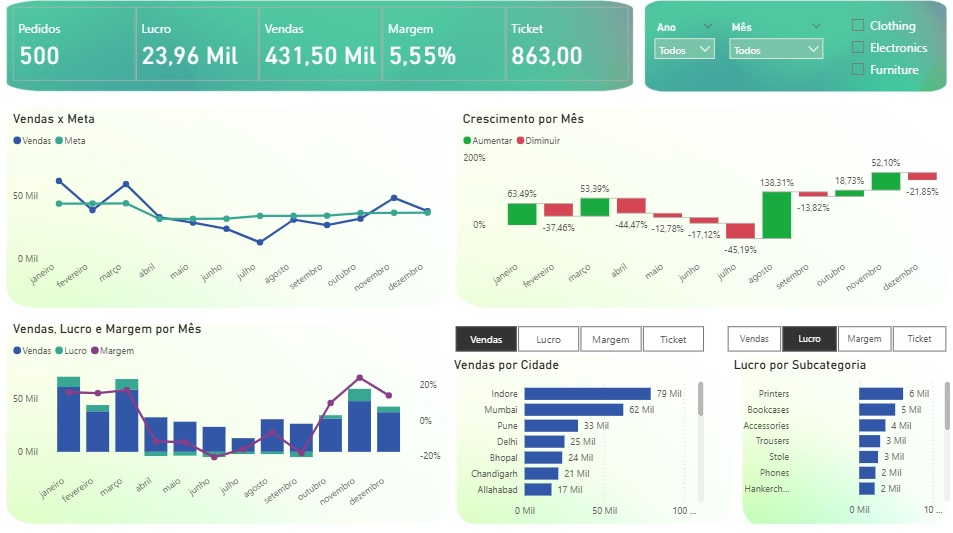

The page's visual inventory and layout, read from the dashboard file:
{"tool":"powerbi","page":{"name":"Página 1","canvas":[1280,720],"ordinal":0},"visuals":[{"type":"cardVisual","fields":{"Data":["medidas.Pedidos","medidas.Lucro","medidas.Vendas","medidas.Margem","medidas.Ticket Medio"]},"box":[24.8,15.1,823.1,107.4],"z":0},{"type":"slicer","fields":{"Values":["calendario.Ano"]},"box":[863,34.4,99.1,86.7],"z":1000},{"type":"slicer","fields":{"Values":["calendario.Nome Mes"]},"box":[962.1,34.4,143.1,158.3],"z":2000},{"type":"slicer","fields":{"Values":["metas.category"]},"box":[1119,24.8,129.4,106],"z":3000},{"type":"lineChart","title":"Vendas x Meta","fields":{"Category":["calendario.Data.Variation.Hierarquia de datas.Ano","calendario.Data.Variation.Hierarquia de datas.Mês"],"Y":["medidas.Vendas","Sum(metas.target)"]},"box":[24.8,158.3,572.6,260.1],"z":4000},{"type":"lineStackedColumnComboChart","fields":{"Category":["calendario.Data.Variation.Hierarquia de datas.Ano","calendario.Data.Variation.Hierarquia de datas.Mês"],"Y":["medidas.Vendas","medidas.Lucro"],"Y2":["medidas.Margem"]},"box":[24.8,433.5,572.6,265.6],"z":5000},{"type":"waterfallChart","fields":{"Category":["calendario.Ano Mes.Variation.Hierarquia de datas.Mês"],"Y":["medidas.Crescimento"]},"box":[616.6,158.3,652.4,260.1],"z":6000},{"type":"clusteredBarChart","fields":{"Y":["medidas.Vendas"],"Category":["clientes.city"]},"box":[604.2,480.3,338.6,220.2],"z":7000},{"type":"slicer","fields":{"Values":["Selecao Cidade.Selecao Cidade"]},"box":[586.3,433.5,375.7,46.8],"z":8000},{"type":"clusteredBarChart","fields":{"Y":["medidas.Vendas"],"Category":["vendas.subcategory"]},"box":[971.7,480.3,294.5,218.8],"z":9000},{"type":"slicer","fields":{"Values":["Selecao Subcategoria.Selecao Subcategoria"]},"box":[942.8,433.5,337.2,46.8],"z":10000}]}

Visuals, with their boxes in screenshot pixels (x1, y1, x2, y2), scaled from the page's 1280x720 canvas onto the 953x533 screenshot:
cardVisual - medidas.Pedidos x medidas.Lucro: [x1=18, y1=11, x2=631, y2=91]
slicer - calendario.Ano: [x1=643, y1=25, x2=716, y2=90]
slicer - calendario.Nome Mes: [x1=716, y1=25, x2=823, y2=143]
slicer - metas.category: [x1=833, y1=18, x2=929, y2=97]
"Vendas x Meta" lineChart: [x1=18, y1=117, x2=445, y2=310]
lineStackedColumnComboChart - calendario.Data.Variation.Hierarquia de datas.Ano x calendario.Data.Variation.Hierarquia de datas.Mês: [x1=18, y1=321, x2=445, y2=518]
waterfallChart - calendario.Ano Mes.Variation.Hierarquia de datas.Mês x medidas.Crescimento: [x1=459, y1=117, x2=945, y2=310]
clusteredBarChart - medidas.Vendas x clientes.city: [x1=450, y1=356, x2=702, y2=519]
slicer - Selecao Cidade.Selecao Cidade: [x1=437, y1=321, x2=716, y2=356]
clusteredBarChart - medidas.Vendas x vendas.subcategory: [x1=723, y1=356, x2=943, y2=518]
slicer - Selecao Subcategoria.Selecao Subcategoria: [x1=702, y1=321, x2=952, y2=356]
